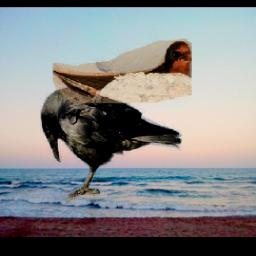Crow: (41, 85, 183, 205)
Swallow: (53, 39, 192, 103)
